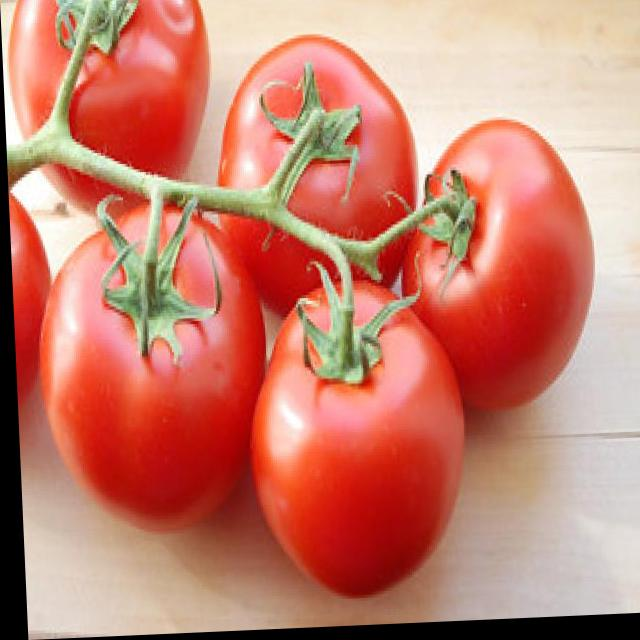kirmizi: (2, 0, 613, 614)
